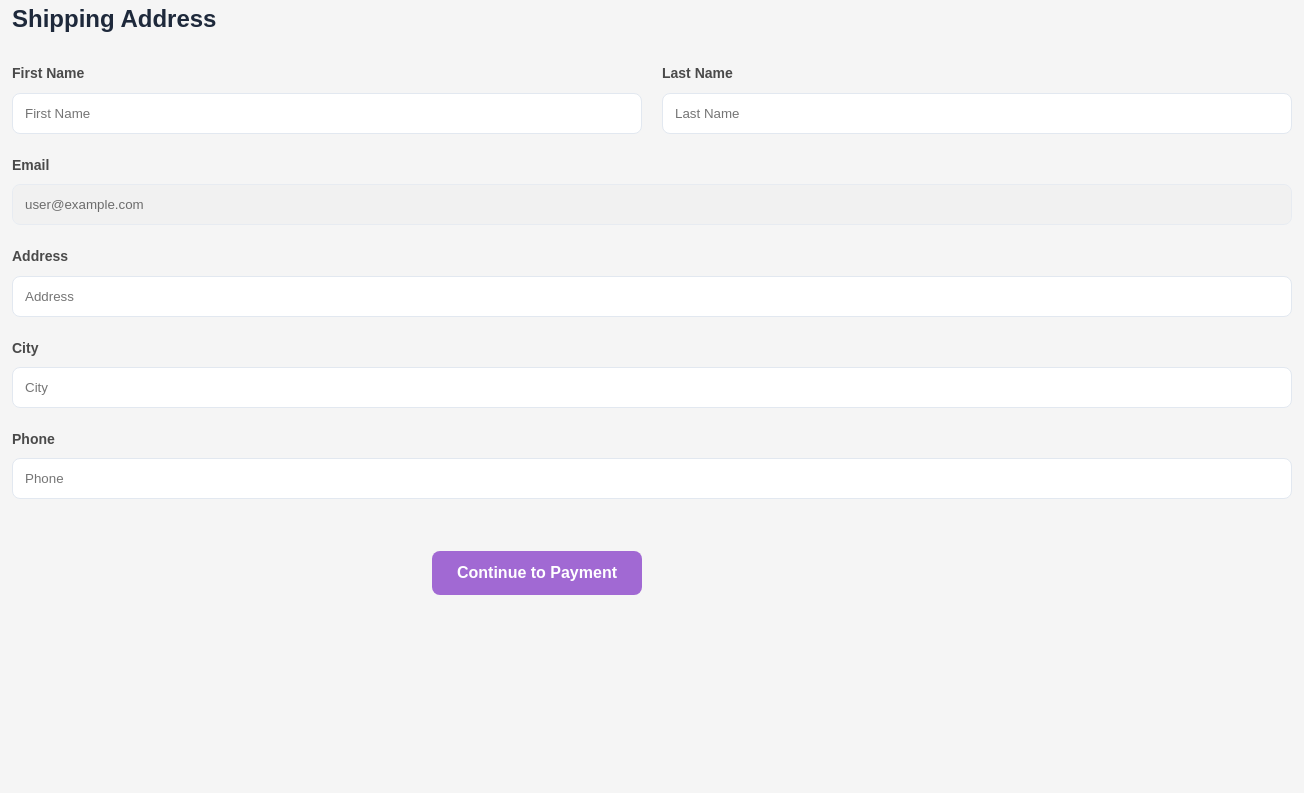
Test: ShippingStep › shows validation errors when submitting an empty form
Click the button "Continue to Payment" at (537, 573), box [432, 551, 642, 595]
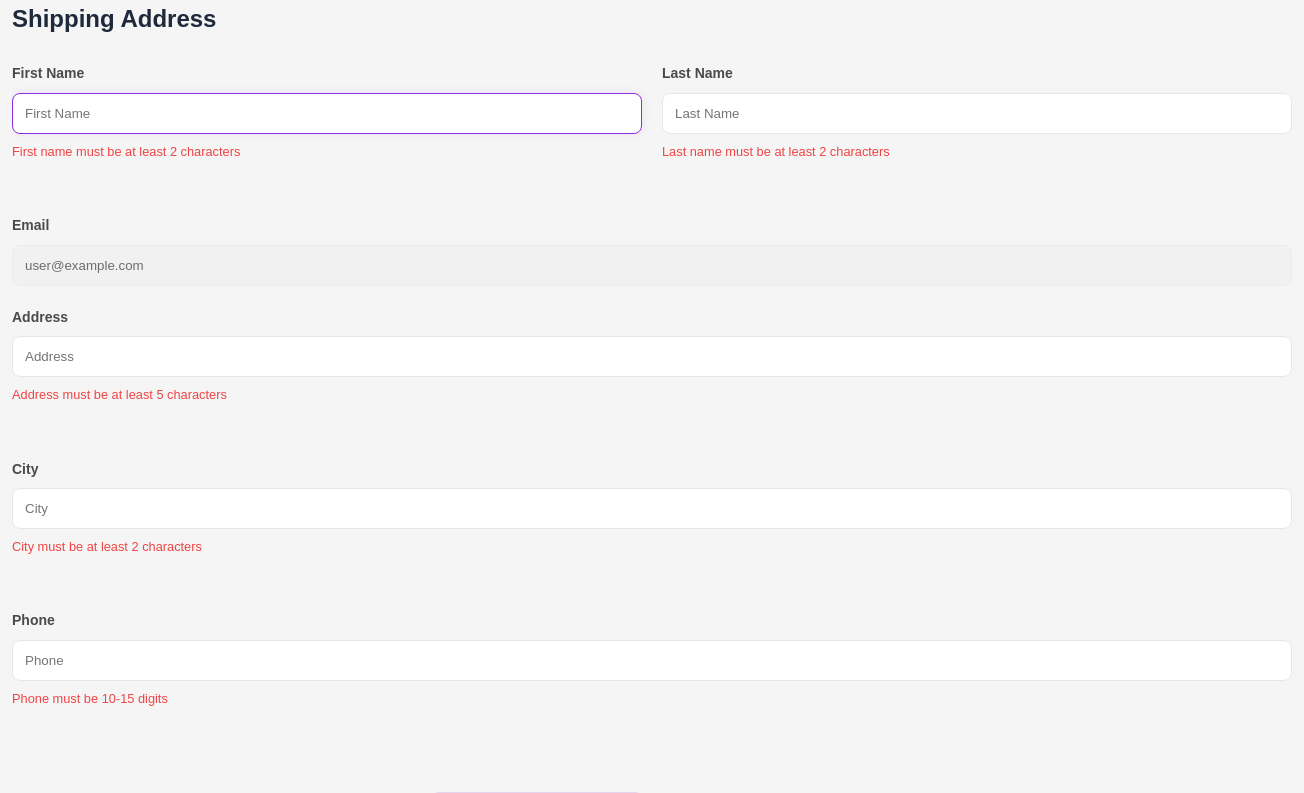
Expected: the text "First name must be at least 2 characters" is shown, [12, 144, 240, 159]
Expected: the text "Last name must be at least 2 characters" is shown, [662, 144, 890, 159]
Expected: the text "Address must be at least 5 characters" is shown, [12, 387, 227, 402]
